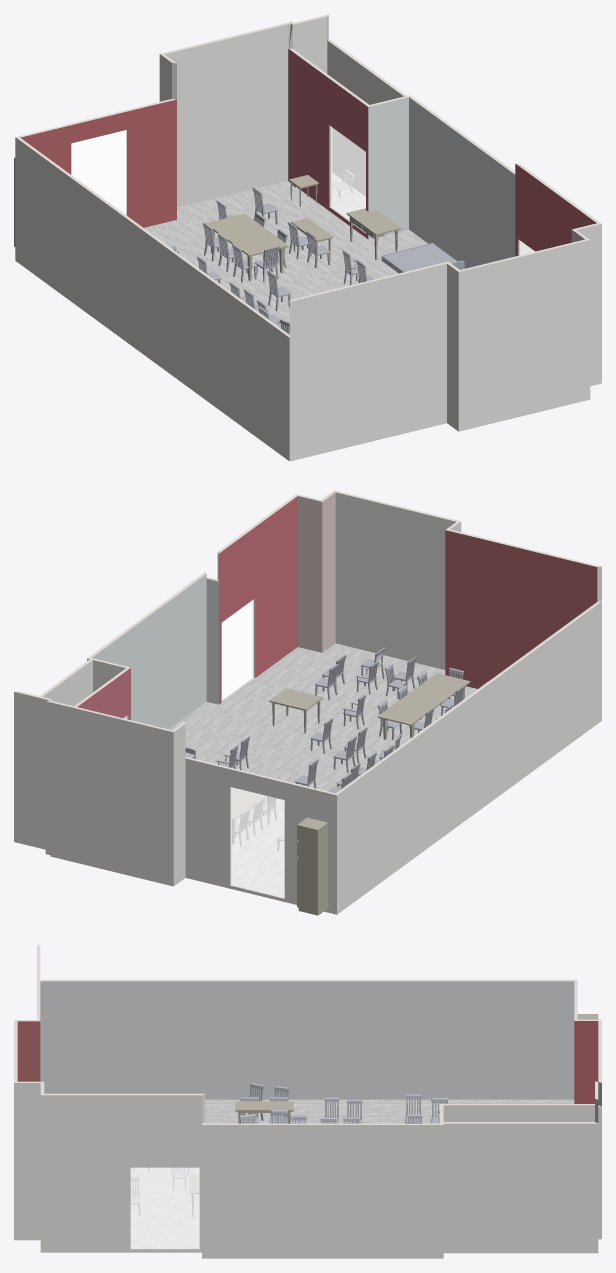
3 views of the same model, one above another, from view 1: azimuth 30°, elevation 25°; view 2: azimuth 150°, elevation 25°; view 3: azimuth 270°, elevation 25° (orthographic). The views are drawn at different scales.
Visible parts, largest first — view 1: wall_8, wall_15, wall_5, wall_35, floor_Bedroom, wall_59, wall_57, wall_39, wall_27, wall_49, wall_23, door_2 (+13 smaller); view 2: wall_8, floor_Bedroom, wall_7, wall_31, wall_51, wall_18, wall_59, wall_49, door_2, door_5, wall_11, wall_55 (+16 smaller); view 3: wall_37, wall_19, wall_1, wall_14, floor_Bedroom, door_1, door_4, wall_12, wall_9, wall_61, wall_38, wall_29 (+4 smaller).
Boxes of the visible parts, left/top/right/bottom form: wall_8: left=15, top=137, right=289, bottom=461; wall_15: left=289, top=263, right=446, bottom=461; wall_5: left=458, top=240, right=590, bottom=431; wall_35: left=165, top=24, right=287, bottom=207; floor_Bedroom: left=144, top=180, right=427, bottom=324; wall_59: left=409, top=97, right=515, bottom=268; wall_57: left=20, top=99, right=176, bottom=227; wall_39: left=288, top=49, right=368, bottom=238; wall_27: left=368, top=97, right=407, bottom=239; wall_49: left=515, top=163, right=596, bottom=256; wall_23: left=327, top=40, right=403, bottom=196; door_2: left=71, top=130, right=126, bottom=215; wall_8: left=337, top=601, right=601, bottom=914; floor_Bedroom: left=169, top=643, right=477, bottom=897; wall_7: left=50, top=702, right=173, bottom=886; wall_31: left=335, top=492, right=456, bottom=669; wall_51: left=445, top=530, right=597, bottom=688; wall_18: left=185, top=758, right=336, bottom=914; wall_59: left=92, top=574, right=206, bottom=729; wall_49: left=219, top=496, right=297, bottom=704; door_2: left=231, top=787, right=284, bottom=897; door_5: left=231, top=787, right=284, bottom=897; wall_11: left=14, top=691, right=47, bottom=849; wall_55: left=298, top=496, right=322, bottom=652; wall_37: left=40, top=981, right=574, bottom=1099; wall_19: left=202, top=1125, right=443, bottom=1258; wall_1: left=443, top=1123, right=598, bottom=1253; wall_14: left=40, top=1095, right=201, bottom=1252; floor_Bedroom: left=131, top=1099, right=574, bottom=1248; door_1: left=131, top=1168, right=199, bottom=1248; door_4: left=131, top=1168, right=199, bottom=1248; wall_12: left=14, top=1083, right=40, bottom=1240; wall_9: left=443, top=1105, right=594, bottom=1121; wall_61: left=574, top=1021, right=598, bottom=1103; wall_38: left=40, top=979, right=576, bottom=981; wall_29: left=17, top=1021, right=40, bottom=1081.
Size of the model in its own units: 10.51 by 4.91 by 16.61.
108 materials, 2 textured.
